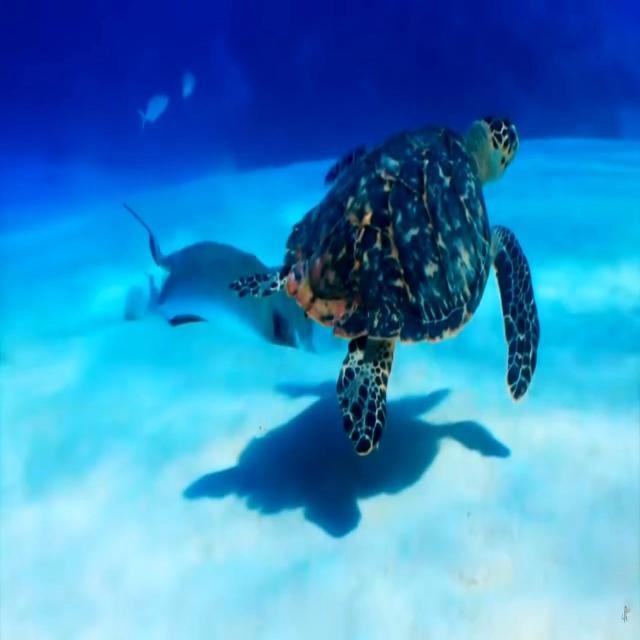Sea turtle: (228, 110, 542, 451)
